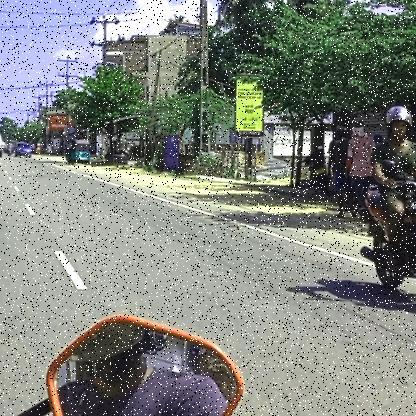motorcycle: (355, 173, 416, 315)
